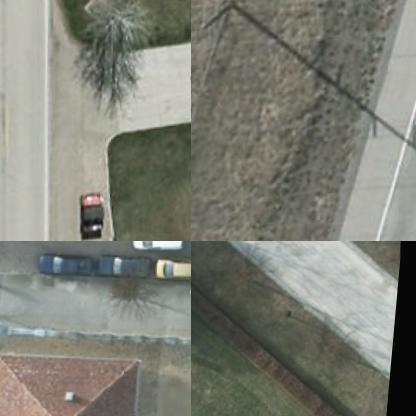car: (89, 249, 150, 282), (78, 188, 113, 241), (32, 252, 92, 276), (152, 254, 190, 280), (127, 241, 183, 254)
